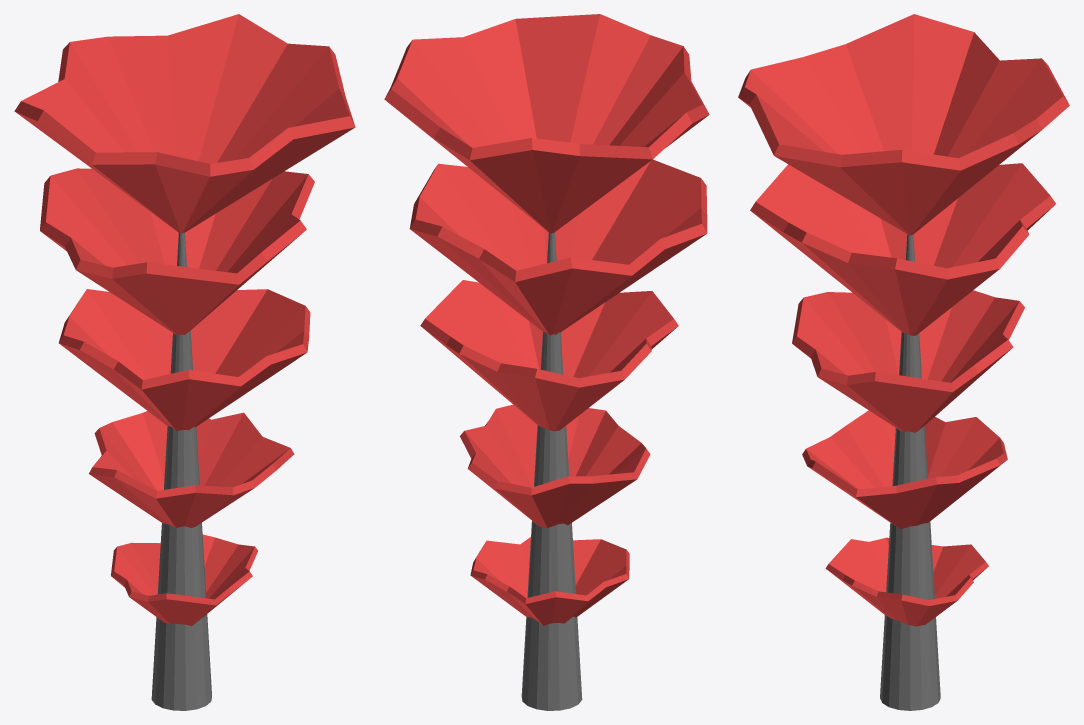
The model's file is Flower 2.fbx.
3 views of the same model, side by side, from view 1: azimuth 30°, elevation 25°; view 2: azimuth 150°, elevation 25°; view 3: azimuth 270°, elevation 25° (orthographic).
Parts seen in each view (by area): view 1: Red01; view 2: Red01; view 3: Red01.
Part boxes in pixels (left/top/right/bottom): Red01: left=14, top=14, right=355, bottom=710; Red01: left=384, top=14, right=709, bottom=710; Red01: left=738, top=14, right=1069, bottom=710.
Size of the model in its own units: 0.8932 by 1.81 by 0.8826.
